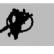not correct: (0, 7, 34, 41)
